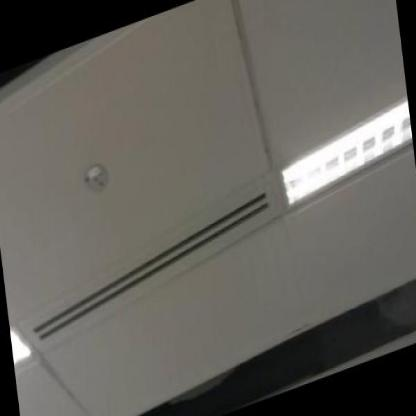light_on: (265, 48, 415, 226), (0, 301, 45, 413)
